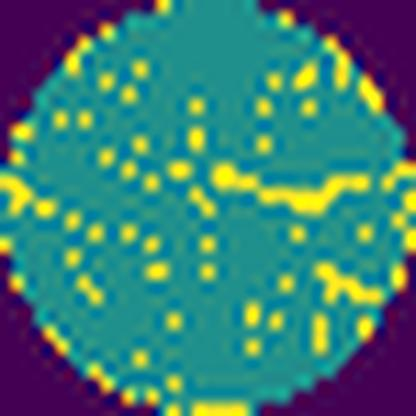Scratch: (208, 158, 375, 221)
